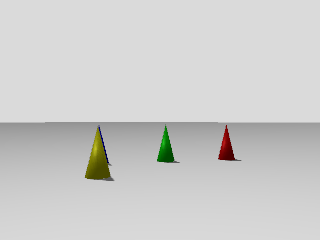green: (156, 123, 176, 164)
red: (216, 125, 236, 161)
yellow: (85, 127, 109, 179)
